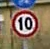limite 10: (10, 9, 39, 38)
